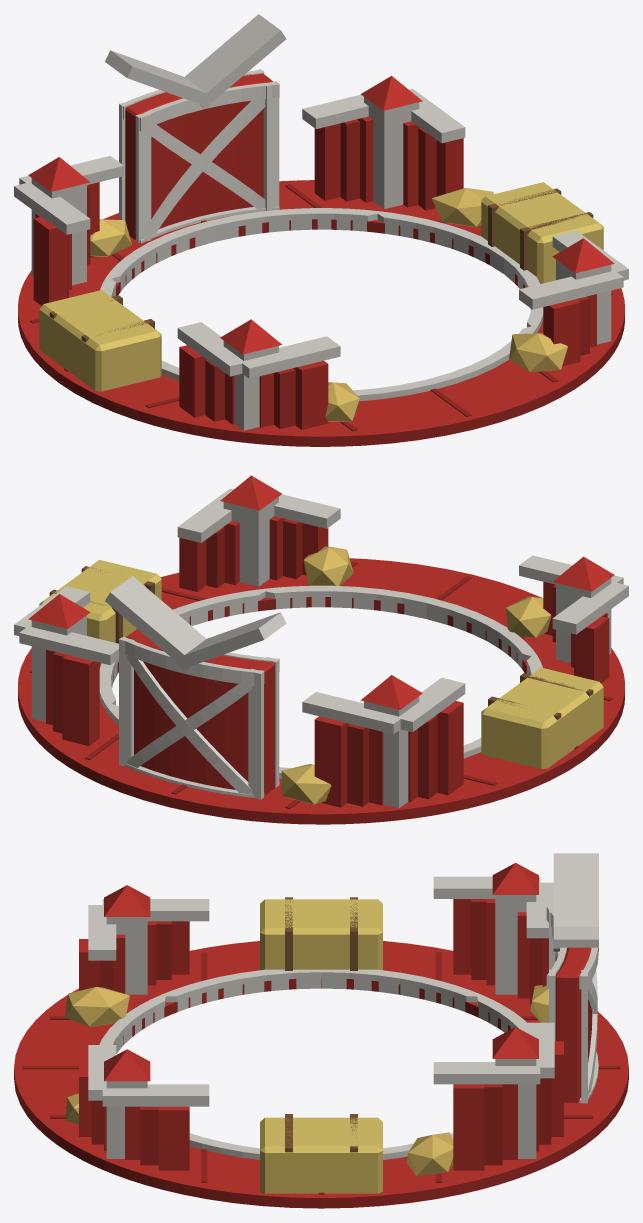
Rendered from habitat_barn_crate_overlay.fbx.
3 renders of one model, top to bottom at view 1: azimuth 30°, elevation 25°; view 2: azimuth 150°, elevation 25°; view 3: azimuth 270°, elevation 25°, orthographic.
Visible parts, largest first — view 1: habitat_barn_crate_overlay; view 2: habitat_barn_crate_overlay; view 3: habitat_barn_crate_overlay.
Part boxes in pixels (bbox=[...]): habitat_barn_crate_overlay: bbox=[14, 14, 628, 446]; habitat_barn_crate_overlay: bbox=[14, 475, 628, 824]; habitat_barn_crate_overlay: bbox=[14, 853, 628, 1208].
Bounding box in the file's own units: 7.5 × 2.54 × 7.5.
